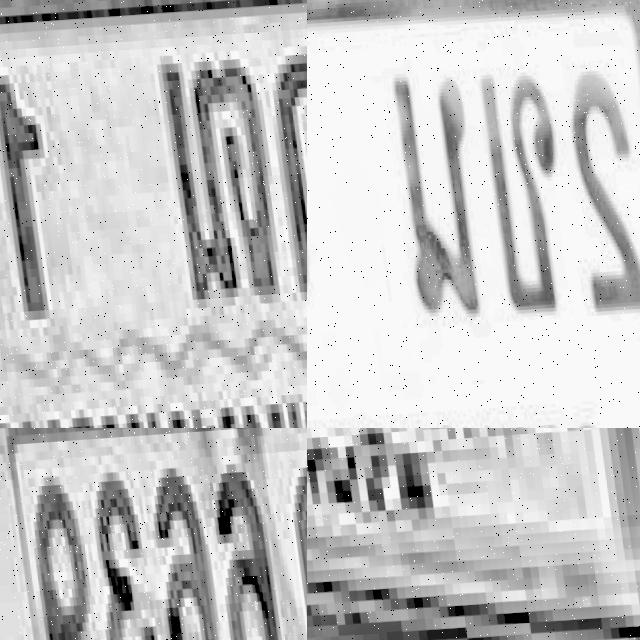license-plate: (307, 0, 640, 428), (0, 0, 307, 428), (307, 428, 640, 640), (0, 428, 307, 640)
